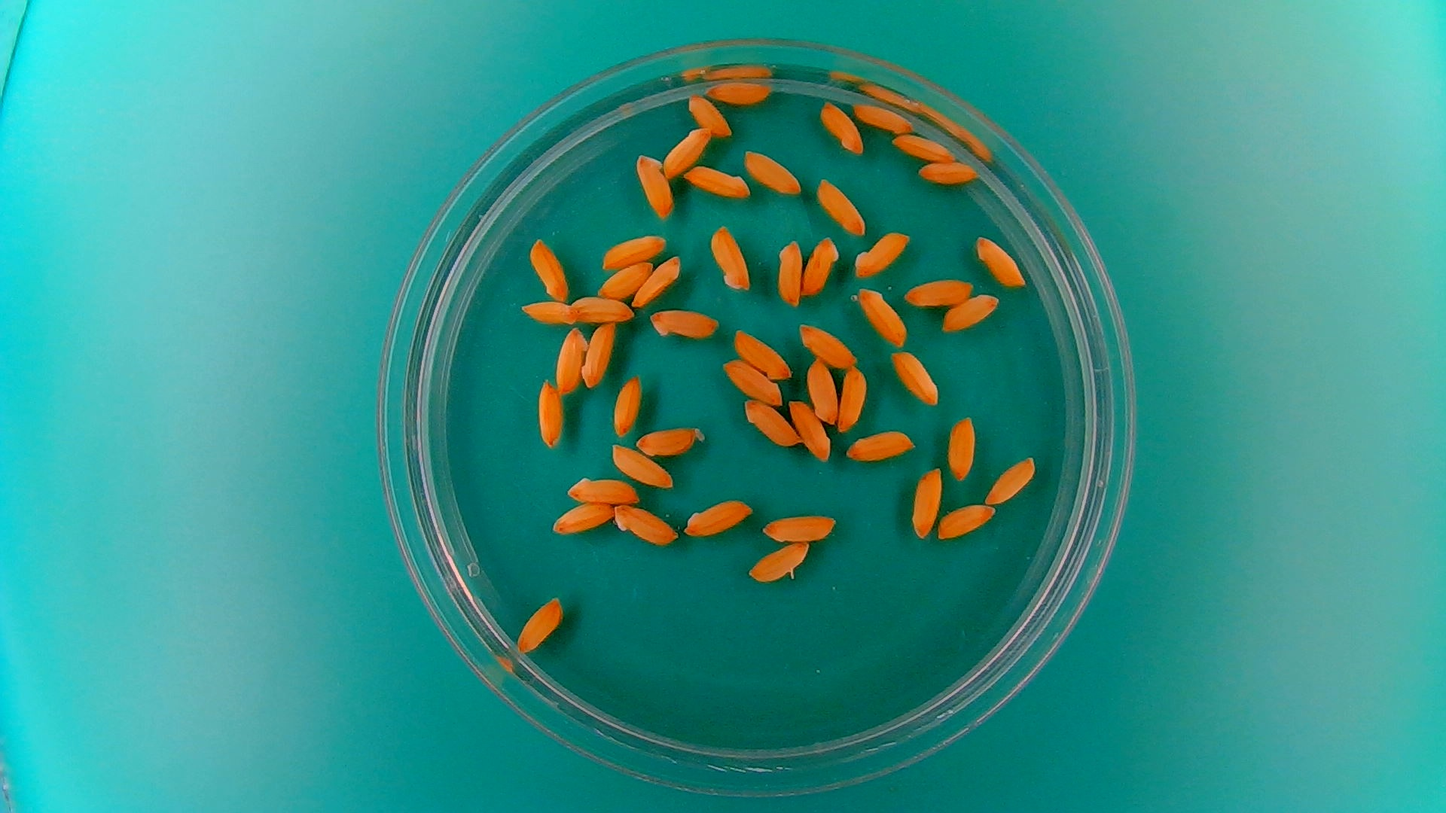no: (610, 236, 682, 295), (972, 231, 1029, 290), (853, 285, 907, 346), (815, 175, 868, 237), (731, 326, 793, 379), (741, 397, 804, 449), (681, 495, 755, 539), (720, 355, 783, 406), (853, 227, 913, 280), (787, 395, 833, 464), (747, 539, 813, 587), (514, 593, 564, 656), (887, 349, 941, 407), (611, 501, 679, 547), (708, 222, 752, 293), (741, 148, 804, 197), (609, 442, 674, 489), (984, 453, 1039, 507), (795, 321, 858, 368), (660, 124, 712, 180), (630, 252, 682, 308), (527, 235, 569, 303), (633, 151, 673, 221), (816, 98, 864, 156), (599, 230, 668, 270), (844, 426, 918, 463), (759, 509, 837, 544), (579, 319, 617, 390), (801, 234, 842, 299), (941, 290, 1002, 333), (804, 355, 840, 427), (648, 305, 722, 340), (909, 464, 943, 540), (552, 324, 587, 397), (635, 423, 707, 458), (935, 501, 998, 541), (682, 163, 751, 199), (902, 274, 975, 308), (837, 363, 871, 434), (945, 413, 979, 483), (596, 259, 654, 300), (563, 474, 639, 505), (550, 501, 615, 537), (850, 99, 916, 134), (535, 376, 566, 449), (684, 92, 732, 139), (609, 371, 643, 437), (891, 131, 958, 164), (775, 237, 804, 308), (569, 295, 636, 324), (916, 159, 981, 187), (704, 79, 773, 105), (518, 298, 576, 325)
